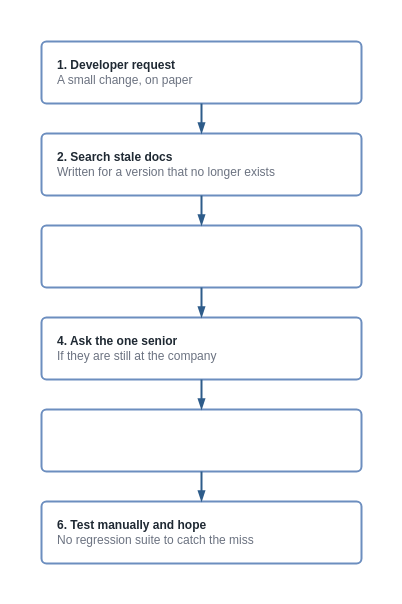
Some shapes in this 402 by 604 pixel diagram are drawn without their labels. Each missing label, with the centre of its shape:
"3. Read unfamiliar code Hours, sometimes days" belongs at (201,256).
"5. Implement carefully Blast radius unknown" belongs at (201,440).
